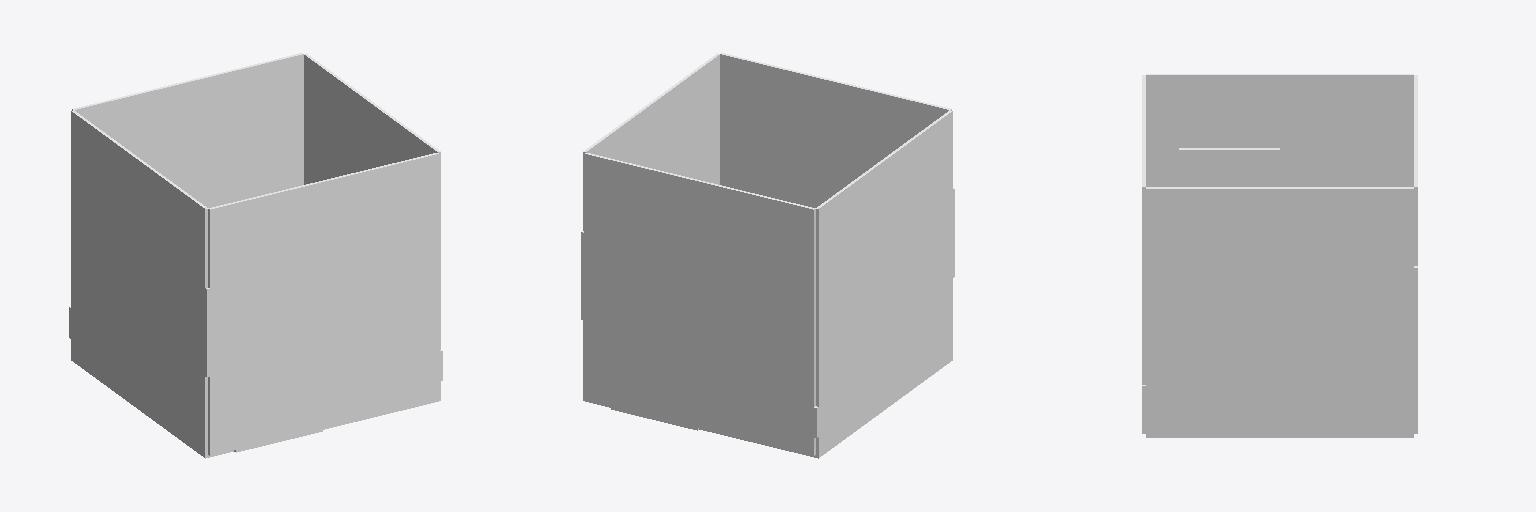
The model's file is kidsRoom.obj.
3 renders of one model, left to right at view 1: azimuth 30°, elevation 25°; view 2: azimuth 150°, elevation 25°; view 3: azimuth 270°, elevation 25°, orthographic.
Parts seen in each view (by area): view 1: object 1; view 2: object 1; view 3: object 1.
Part boxes in pixels (bbox=[...]): object 1: bbox=[69, 53, 442, 458]; object 1: bbox=[581, 53, 954, 458]; object 1: bbox=[1142, 74, 1417, 437].
Bounding box in the file's own units: 8.1 × 8.2 × 8.2.